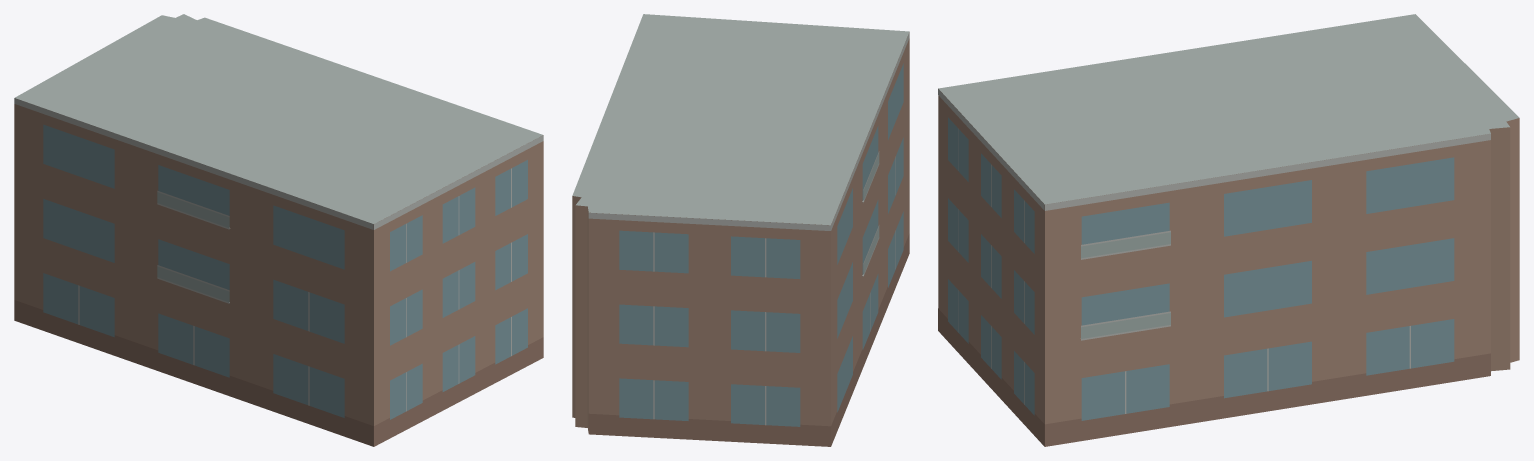
Rendered from survey-upis-32846613.glb.
The picture shows the model from 3 angles, left to right: view 1: azimuth 30°, elevation 25°; view 2: azimuth 150°, elevation 25°; view 3: azimuth 270°, elevation 25°; orthographic projection. The views are drawn at different scales.
Parts seen in each view (by area): view 1: survey-upis-32846613.tmp; view 2: survey-upis-32846613.tmp; view 3: survey-upis-32846613.tmp.
Boxes of the visible parts, box(x1,y1,x2,y2) form: survey-upis-32846613.tmp: box(14, 14, 543, 446); survey-upis-32846613.tmp: box(572, 14, 909, 446); survey-upis-32846613.tmp: box(938, 14, 1519, 446).
Size of the model in its own units: 15.44 by 9.15 by 19.91.
